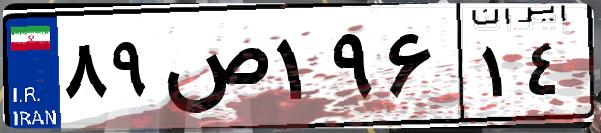1: (270, 28, 330, 110), (475, 38, 525, 113)
4: (525, 38, 570, 115)
6: (385, 28, 445, 110)
8: (57, 26, 110, 100)
9: (330, 28, 385, 110), (110, 28, 158, 98)
ص: (158, 20, 270, 120)
